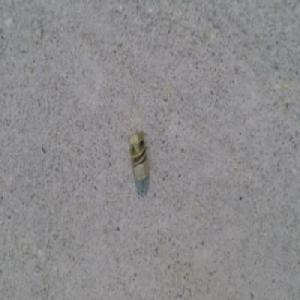BoltNutSet: (128, 133, 151, 187)
